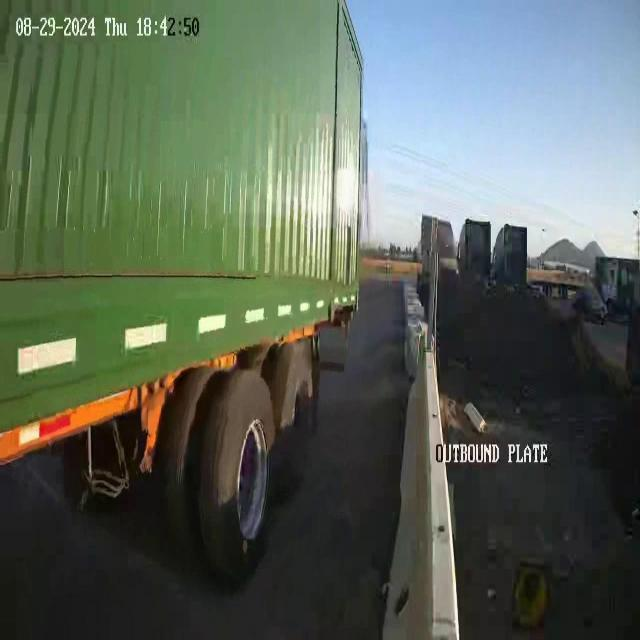TRUCK_OUT: (1, 1, 367, 580)
